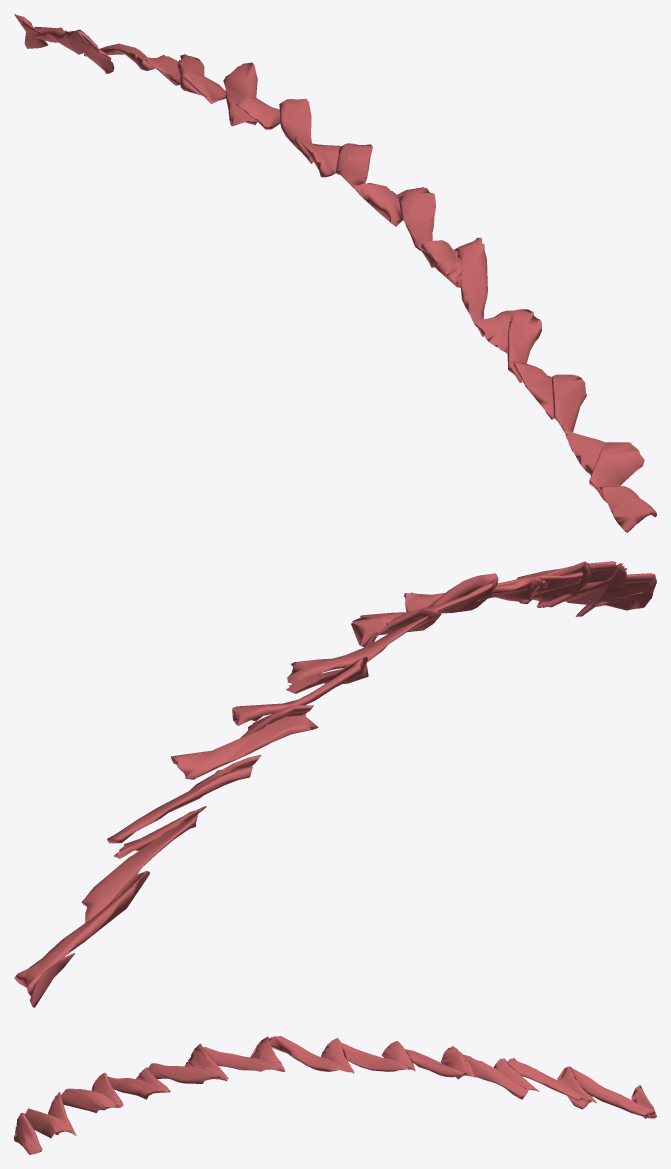
3 views of the same model, one above another, from view 1: azimuth 30°, elevation 25°; view 2: azimuth 150°, elevation 25°; view 3: azimuth 270°, elevation 25° (orthographic). The views are drawn at different scales.
Visible parts, largest first — view 1: 左侧胸多裂肌; view 2: 左侧胸多裂肌; view 3: 左侧胸多裂肌.
Part boxes in pixels (x1,y1,x2,y2): 左侧胸多裂肌: [14, 14, 656, 532]; 左侧胸多裂肌: [14, 561, 656, 1007]; 左侧胸多裂肌: [14, 1036, 656, 1154].
Bounding box in the file's own units: 0.0386 × 0.0772 × 0.4536.
